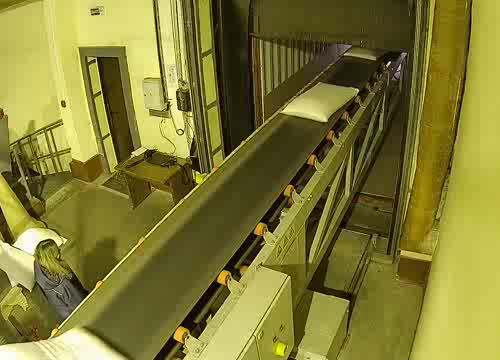bag: (1, 323, 133, 360), (276, 82, 359, 124), (342, 43, 388, 61)
